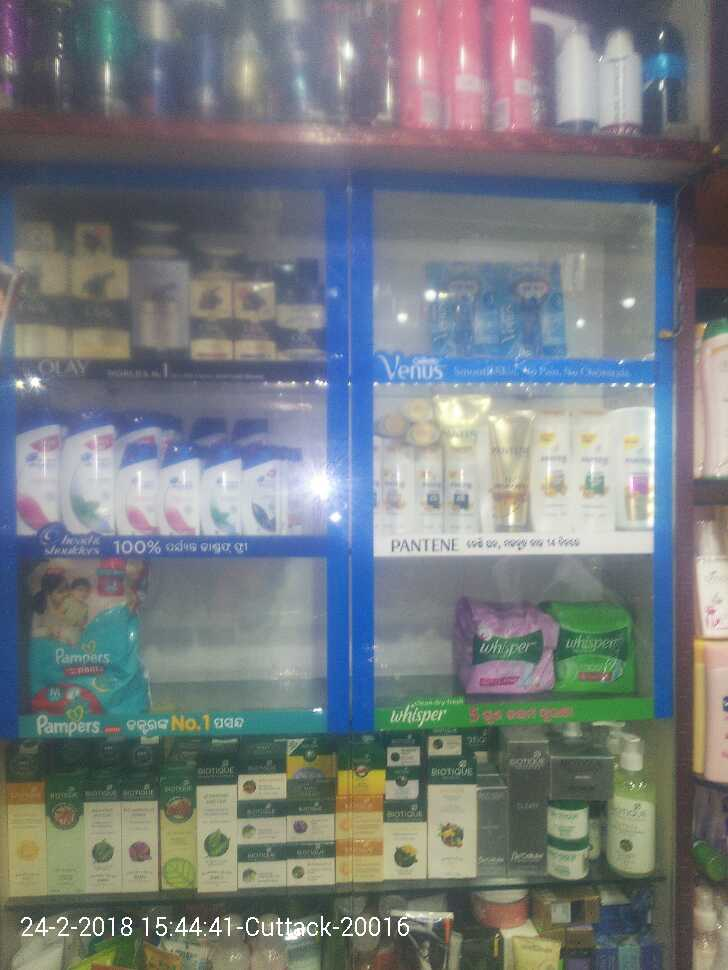venus: (429, 257, 489, 354), (499, 265, 562, 353)
